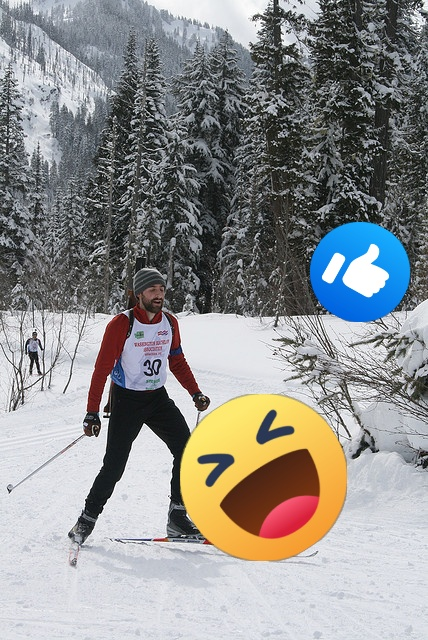haha: (180, 394, 347, 561)
like: (310, 222, 410, 322)
